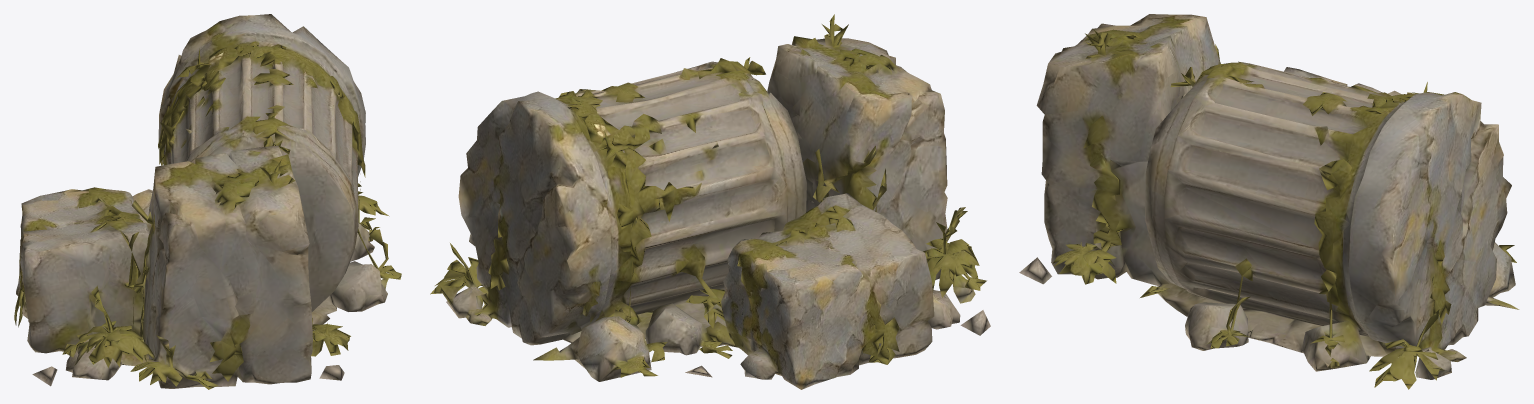
File: rubble_c.glb
3 views of the same model, side by side, from view 1: azimuth 30°, elevation 25°; view 2: azimuth 150°, elevation 25°; view 3: azimuth 270°, elevation 25° (orthographic). The views are drawn at different scales.
Visible parts, largest first — view 1: rubble_c__rubble; view 2: rubble_c__rubble; view 3: rubble_c__rubble.
Part boxes in pixels (left/top/right/bottom): rubble_c__rubble: left=14, top=14, right=401, bottom=389; rubble_c__rubble: left=430, top=14, right=990, bottom=389; rubble_c__rubble: left=1019, top=14, right=1519, bottom=389.
Bounding box in the file's own units: 1.33 × 0.64 × 1.21.
Materials: 1 (1 with a texture image).
